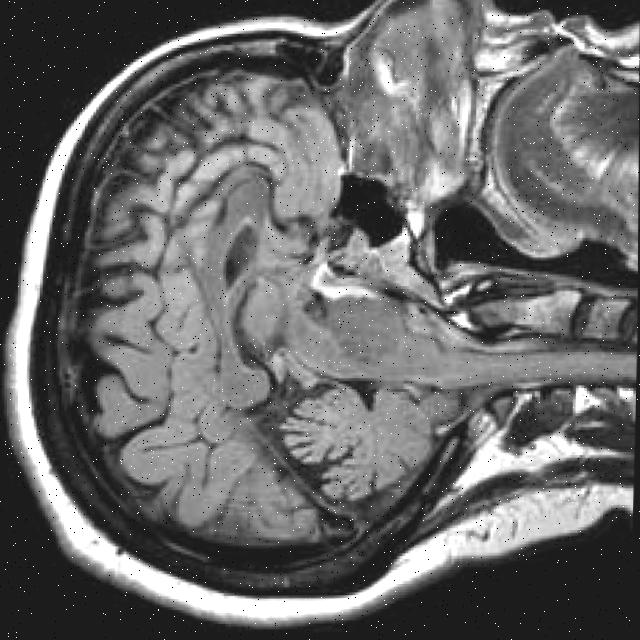NoTumor: (0, 6, 473, 637)
